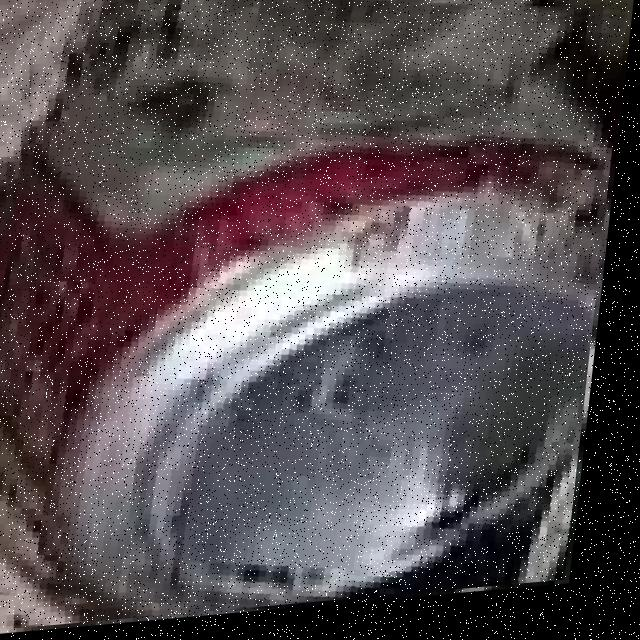litter: (0, 25, 615, 614)
